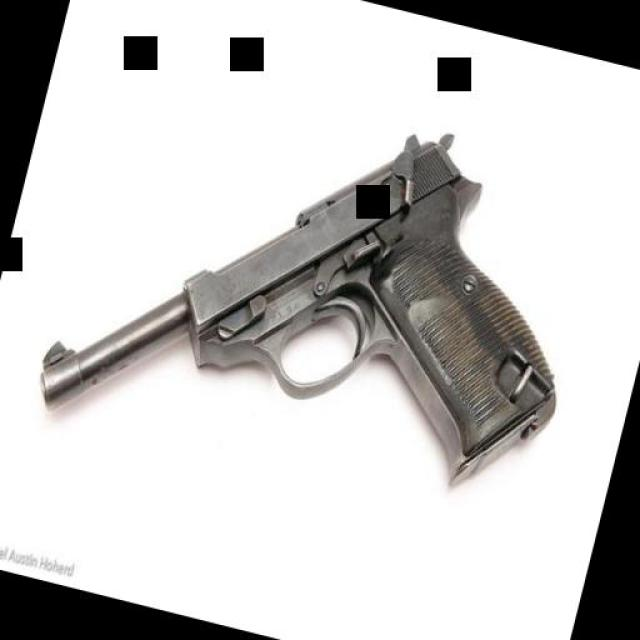gun: (20, 43, 620, 555)
